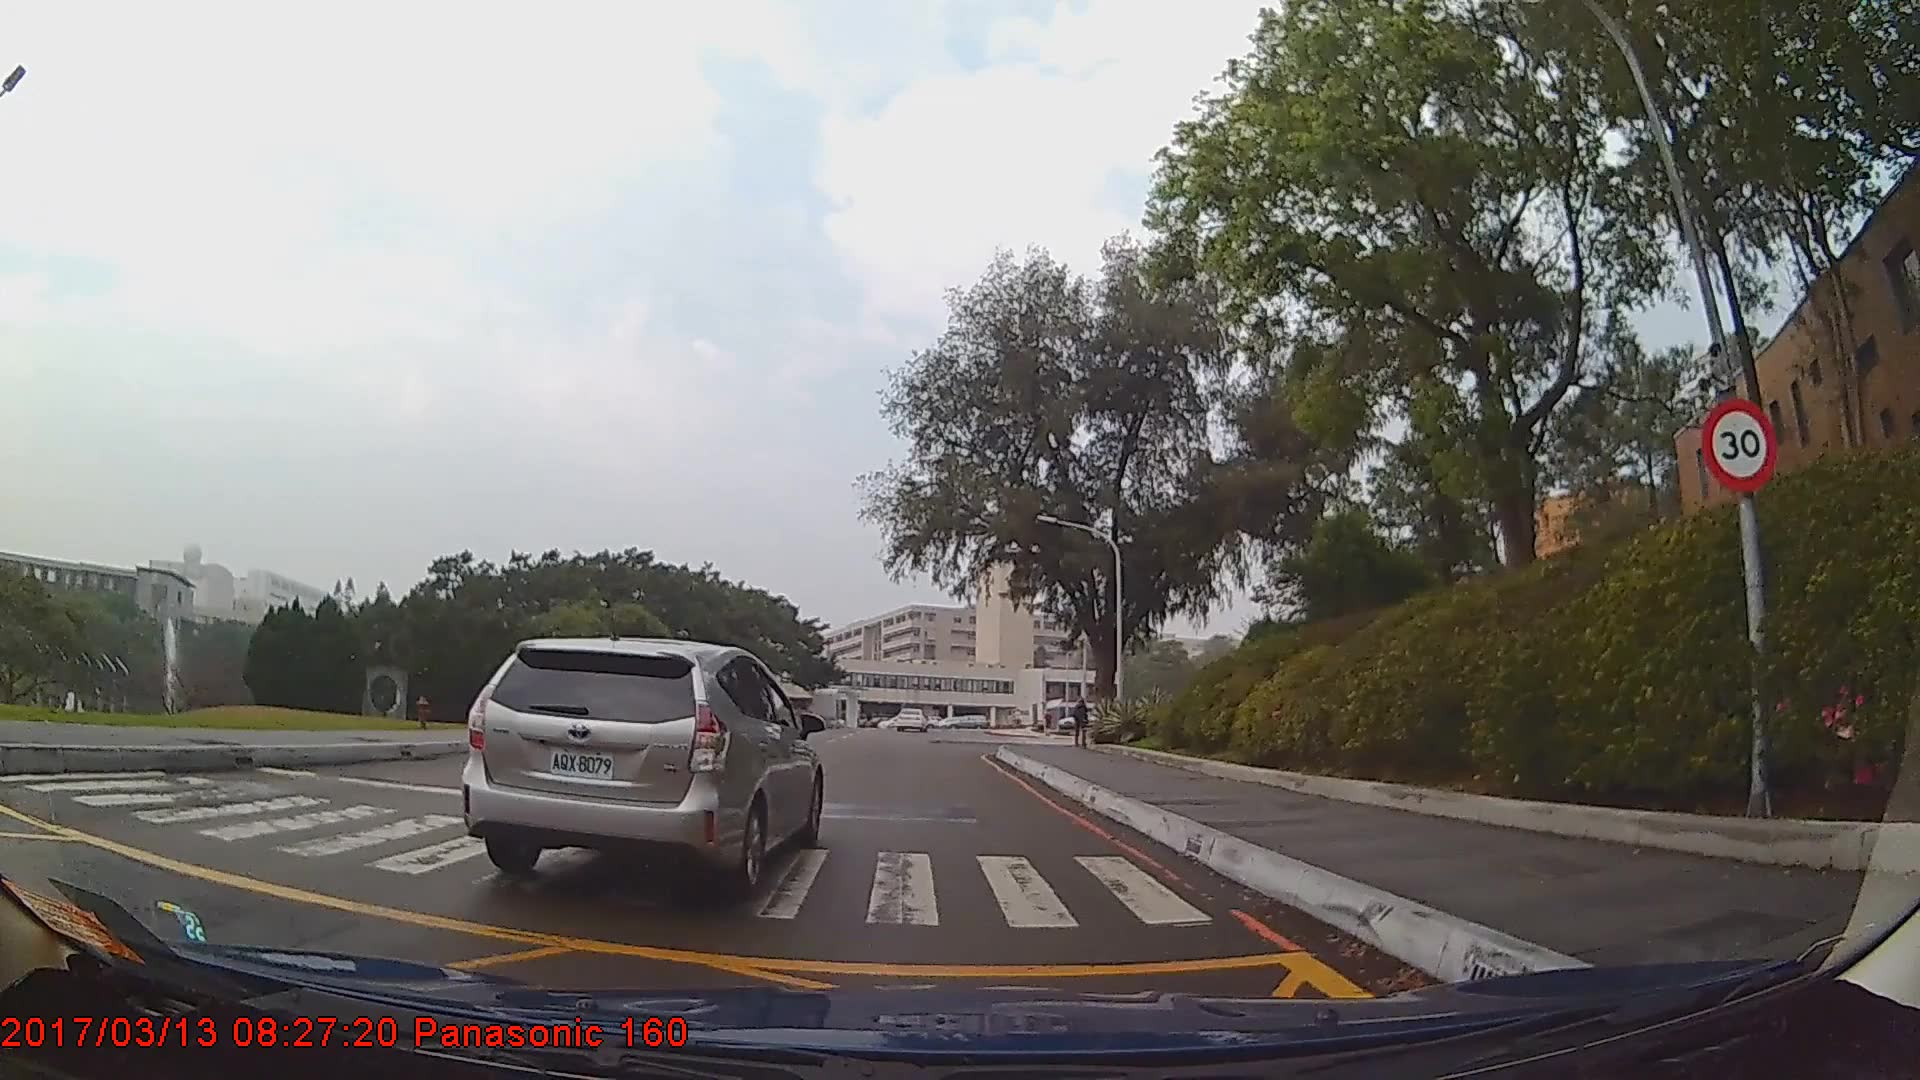pedestrian: (1072, 700, 1093, 753)
vehicle: (455, 631, 824, 894), (893, 706, 926, 733)
